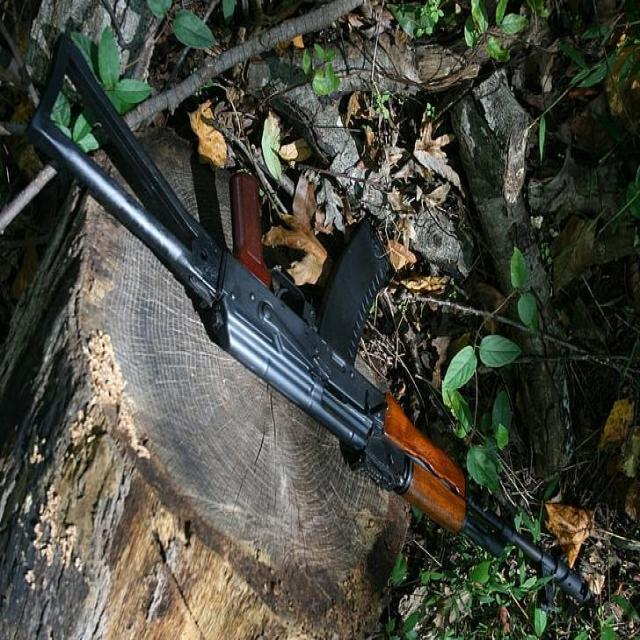weapon: (29, 33, 592, 606)
